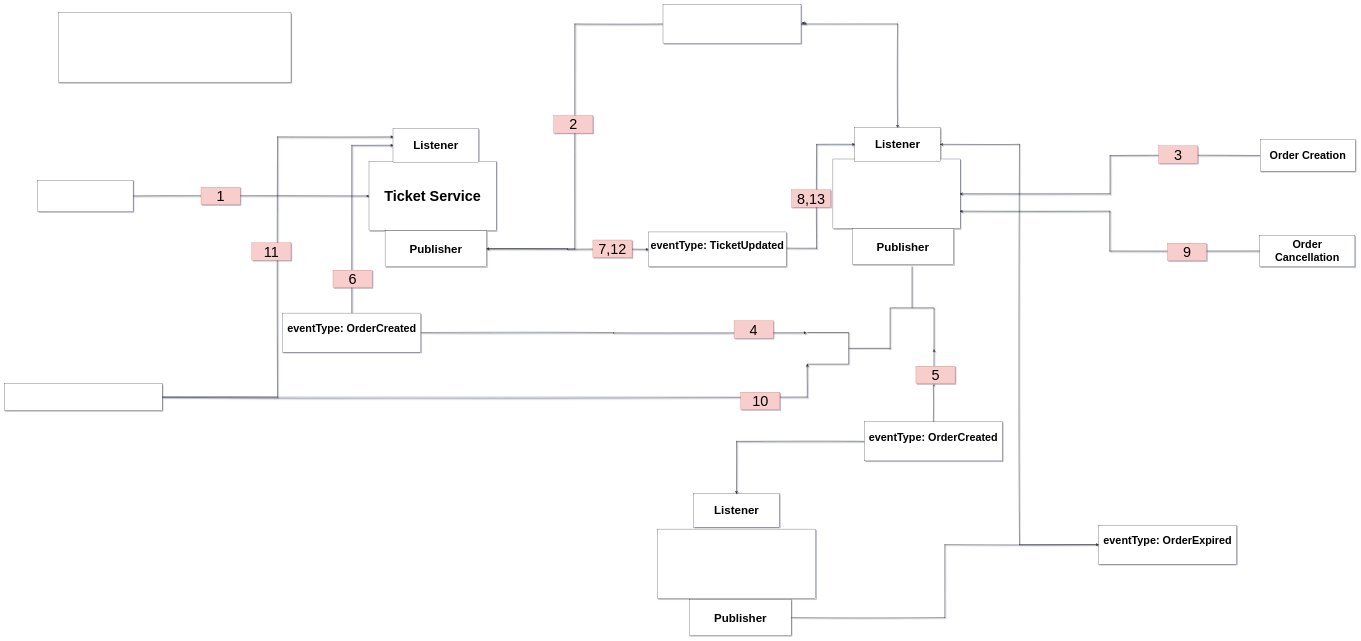
Image size: 1361x641. Some labels were removed from this diagram. Here are the shapes that lost their labels. From the top down, the centre of each, then its label:
(732,24): eventType: TicketCreated
(174,47): Event Flow
(85,196): Ticket Creation
(896,194): Order Service
(83,397): eventType: OrderCancelled
(736,564): Expiration Service
